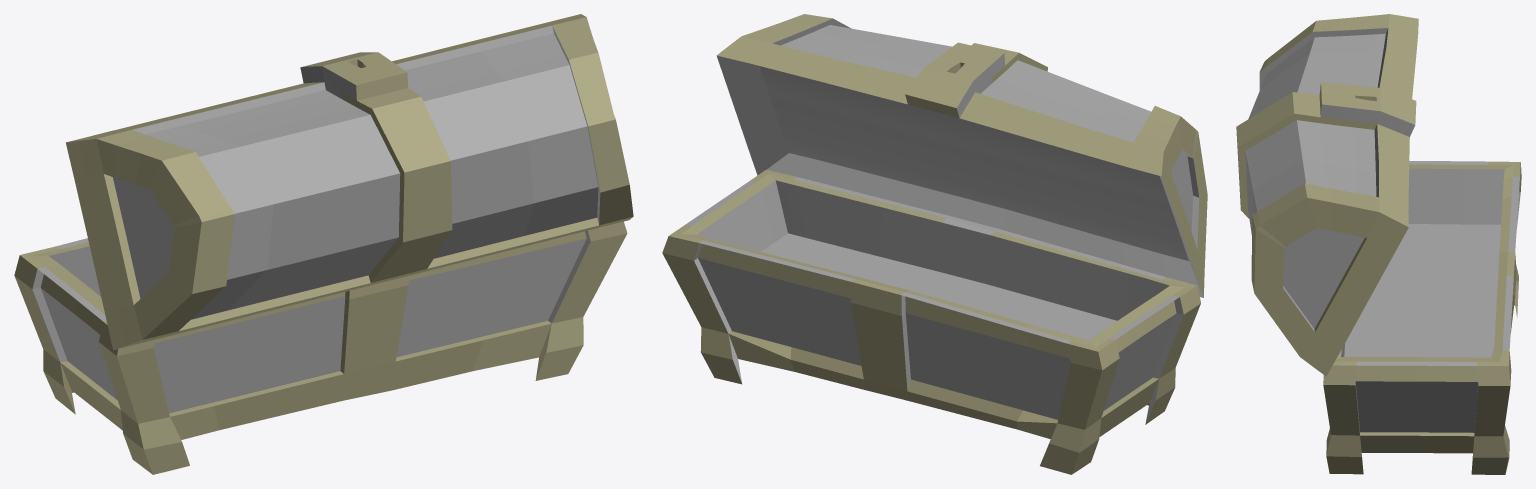
File: KaiChest02.fbx
3 renders of one model, left to right at view 1: azimuth 30°, elevation 25°; view 2: azimuth 150°, elevation 25°; view 3: azimuth 270°, elevation 25°, orthographic. The views are drawn at different scales.
Parts seen in each view (by area): view 1: Chest_Top1; view 2: Chest_Top1; view 3: Chest_Top1.
Part boxes in pixels (left/top/right/bottom): Chest_Top1: left=14, top=14, right=633, bottom=474; Chest_Top1: left=662, top=14, right=1207, bottom=474; Chest_Top1: left=1236, top=14, right=1521, bottom=474.
Bounding box in the file's own units: 6.92 × 4.53 × 3.84.
